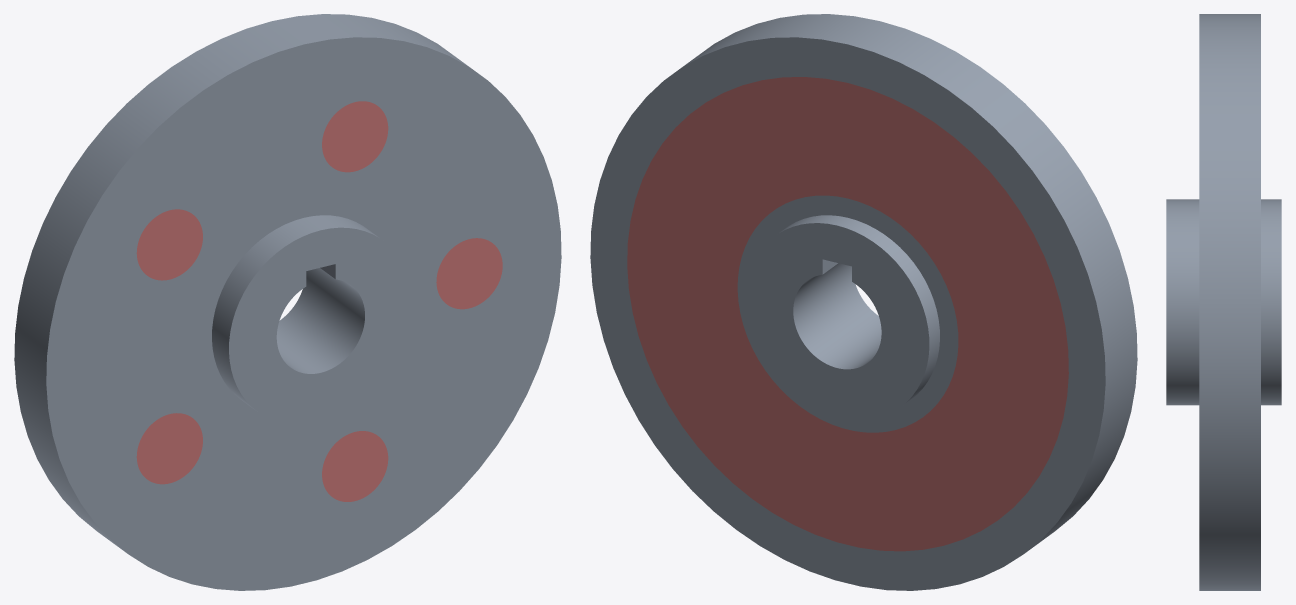
File: step_29.glb
3 renders of one model, left to right at view 1: azimuth 30°, elevation 25°; view 2: azimuth 150°, elevation 25°; view 3: azimuth 270°, elevation 25°, orthographic. The views are drawn at different scales.
Parts seen in each view (by area): view 1: part__flywheel, removed__flywheel; view 2: part__flywheel, removed__flywheel; view 3: part__flywheel.
Boxes of the visible parts, left/top/right/bottom form: part__flywheel: left=14, top=14, right=561, bottom=590; removed__flywheel: left=136, top=101, right=502, bottom=501; part__flywheel: left=590, top=14, right=1137, bottom=590; removed__flywheel: left=627, top=77, right=1068, bottom=551; part__flywheel: left=1166, top=14, right=1281, bottom=590.
Bounding box in the file's own units: 140 × 140 × 28.
